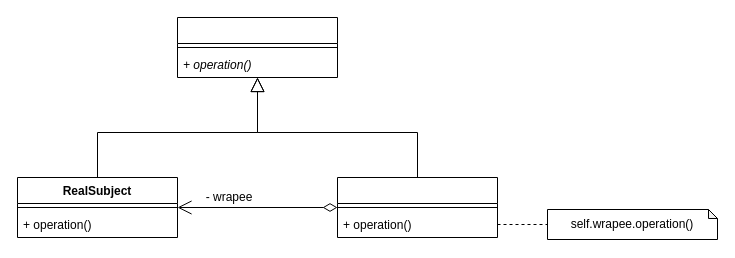
Some shapes in this 735 by 258 pixel diagram are drawn without their labels. Each missing label, with the box of its shape:
Proxy: (336, 176, 498, 238)
Subject: (176, 16, 338, 78)
